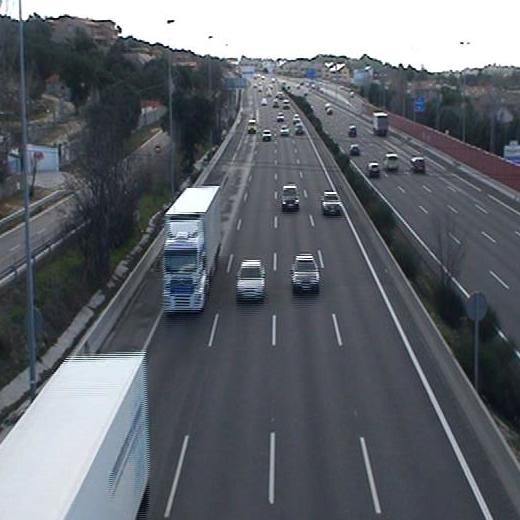car: (234, 259, 267, 303), (289, 253, 322, 294), (319, 190, 344, 217), (279, 185, 300, 212), (279, 124, 291, 137), (263, 128, 272, 140)
truck: (159, 184, 222, 316)
